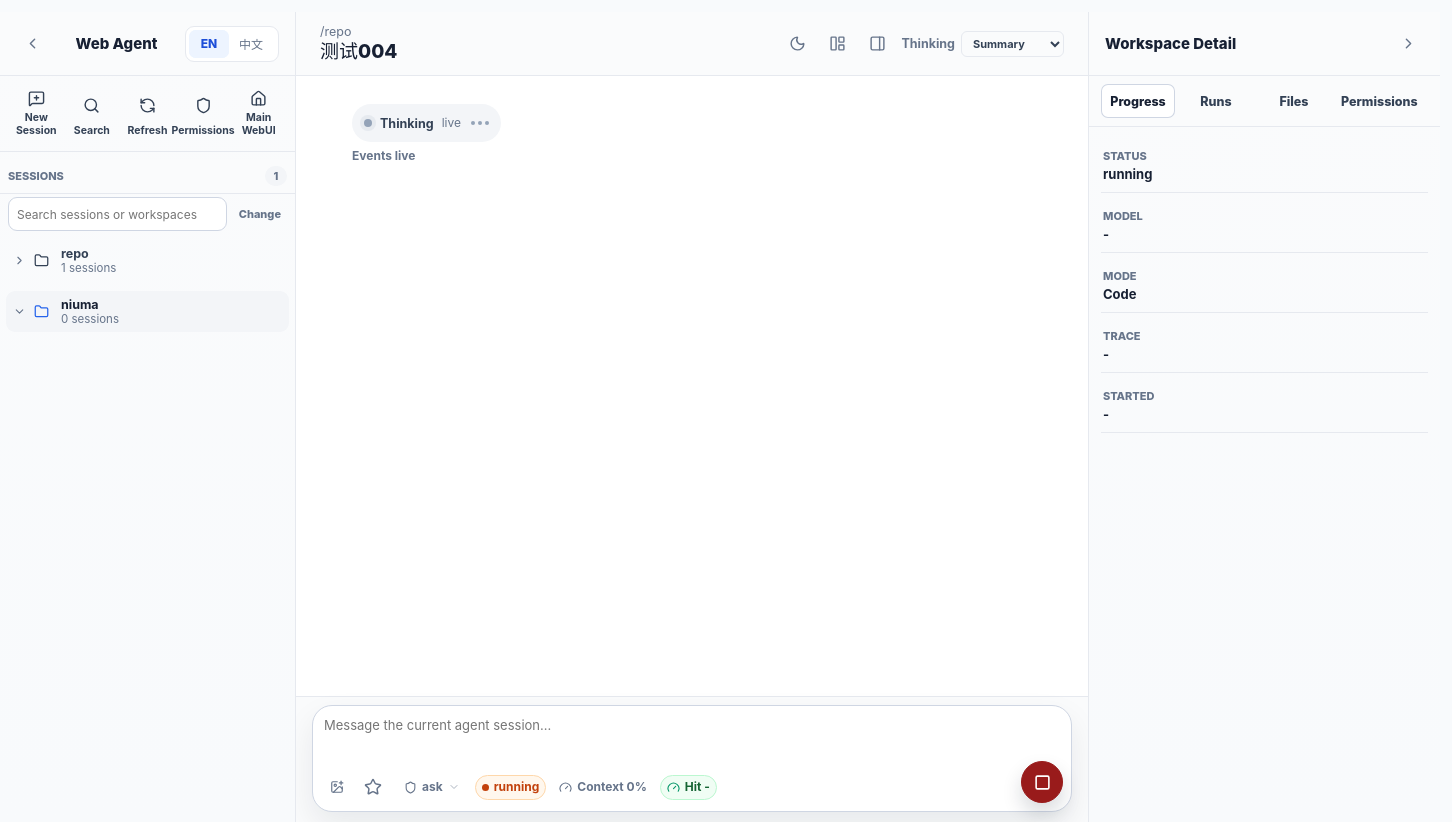
WebAgentPage i18n › returns composer to ready after cancelling a running session
The width and height of the screenshot is (1452, 822).
Click the button with class "danger" at (1042, 782), box [1021,761,1063,803]
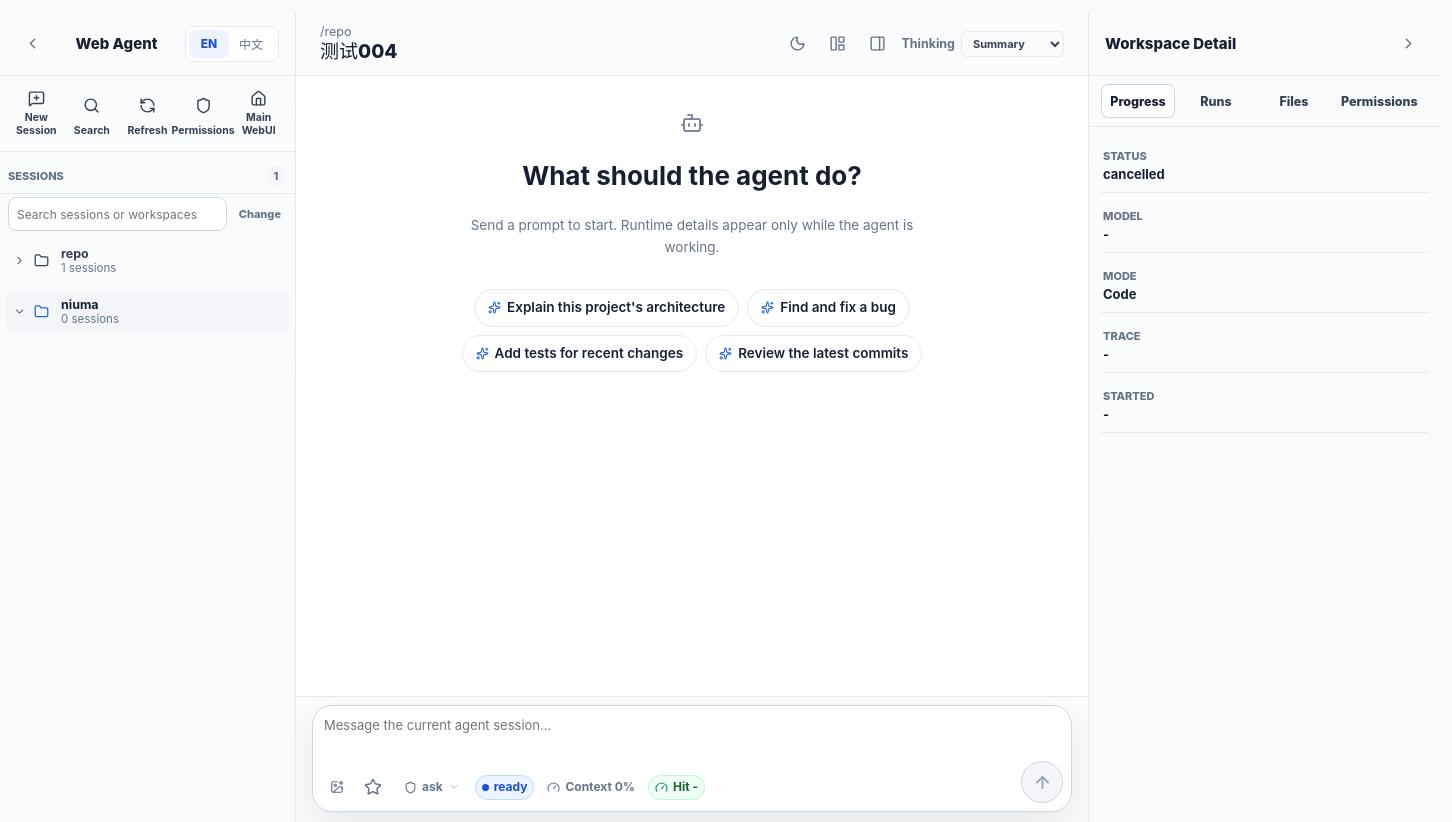
Expected: the text box with placeholder "Message the current agent session..." is enabled, [321,714,1063,755]
Expected: the element with class "composer-state" reads "ready", [494,779,528,794]
